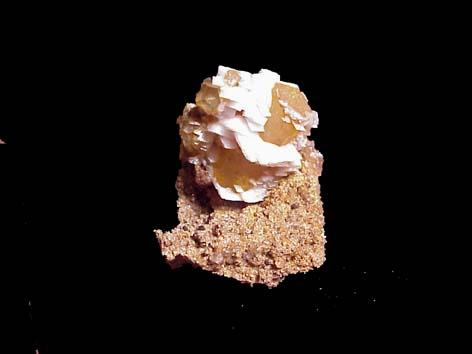calcite: (178, 78, 259, 192), (259, 82, 318, 148)
